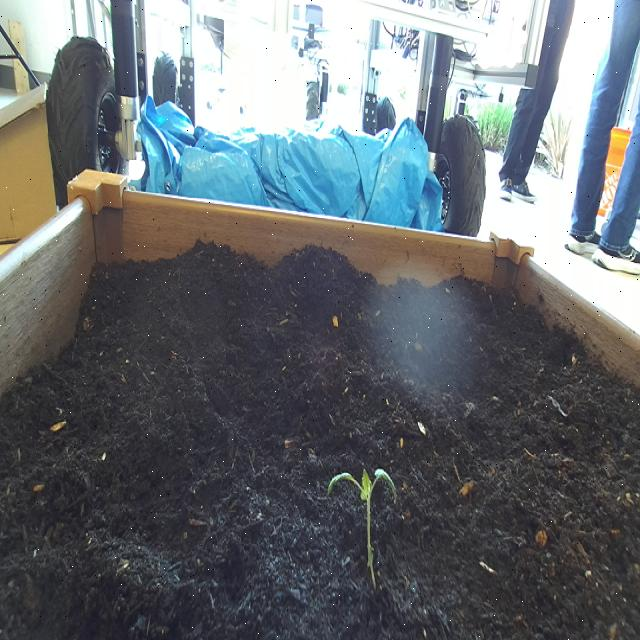Healthy: (324, 458, 401, 590)
